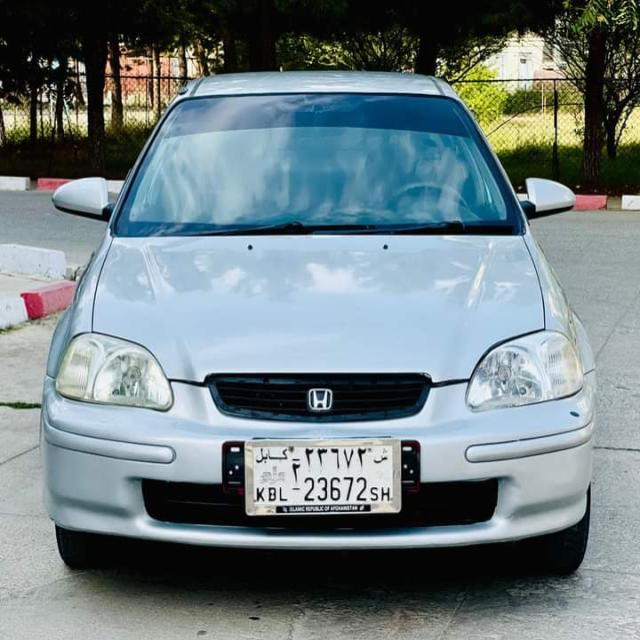Plate: (255, 446, 393, 504)
